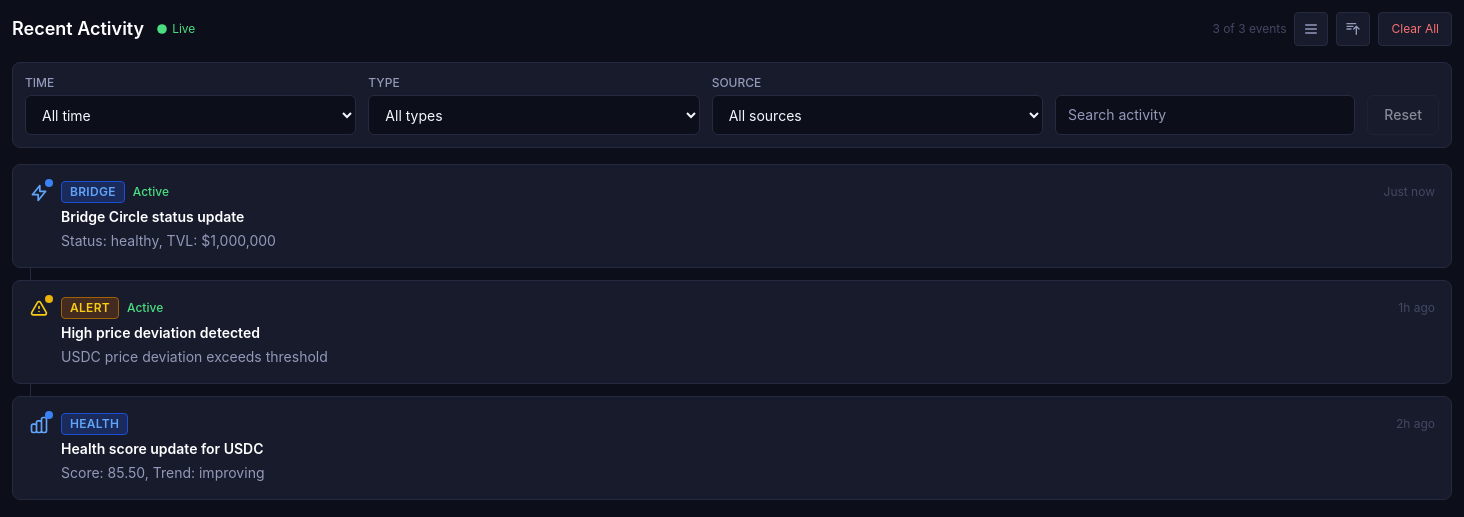
RecentActivityTimeline › toggles sort order
Click the button named "Sort by oldest first" at (1354, 29), box [1336,12,1370,46]
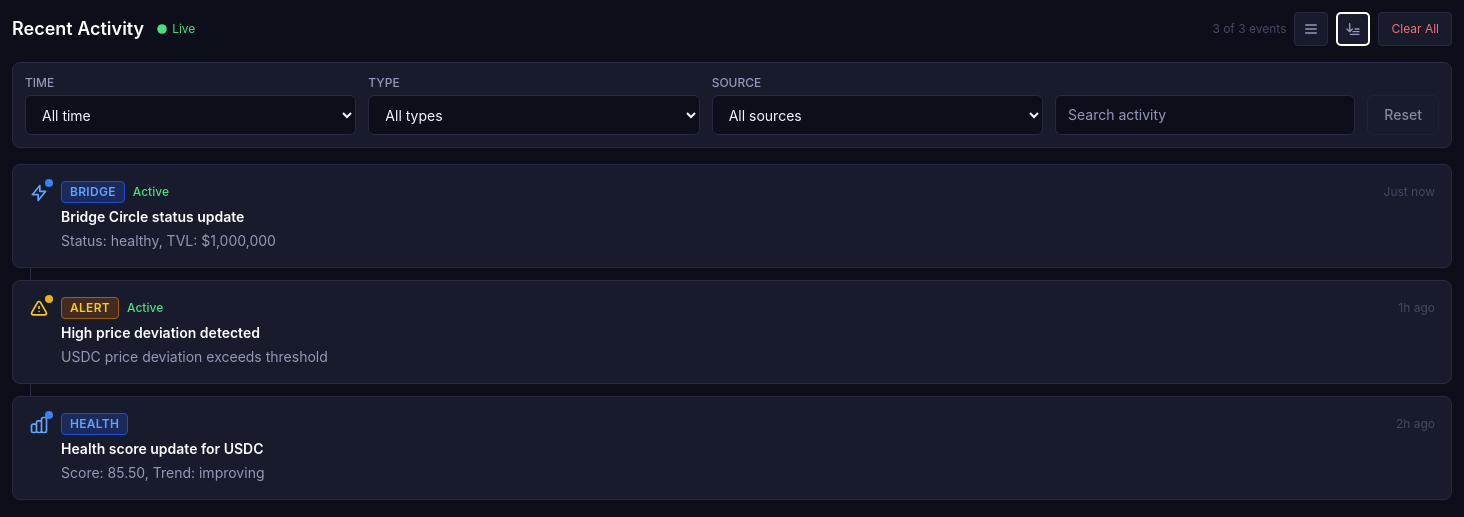
Expected: the button named "Sort by newest first" is shown, [1336,12,1370,46]
